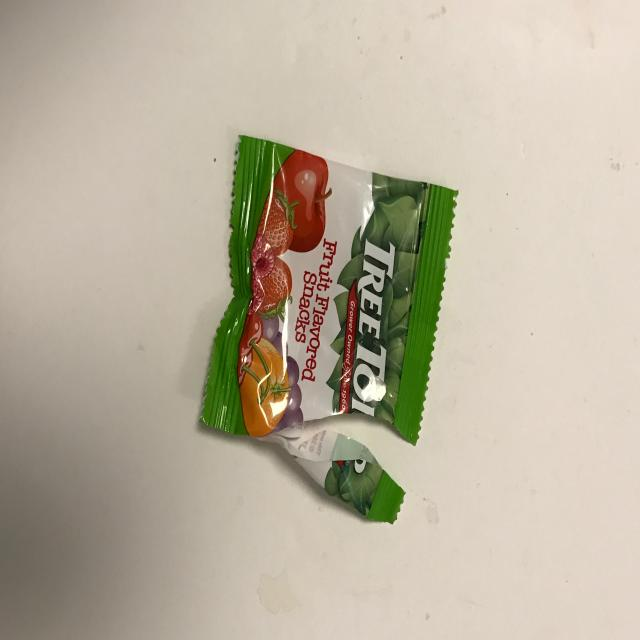Plastic: (175, 64, 470, 544)
